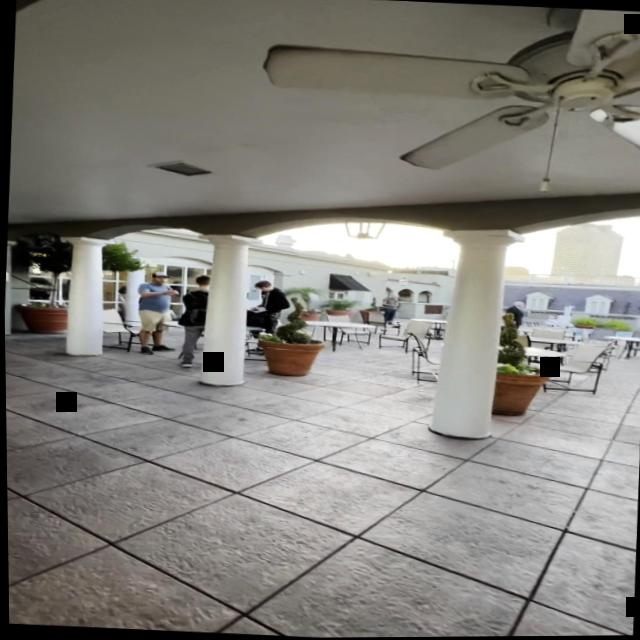NO-Mask: (253, 281, 268, 293), (150, 276, 166, 286)
